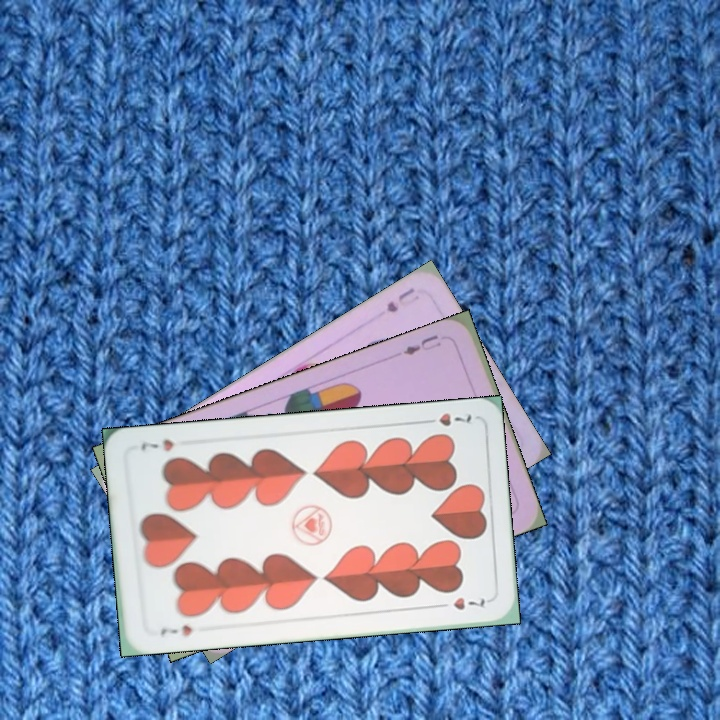EU: (399, 330, 444, 358)
H7: (417, 408, 475, 429), (156, 621, 194, 639)
SU: (382, 283, 418, 315)
